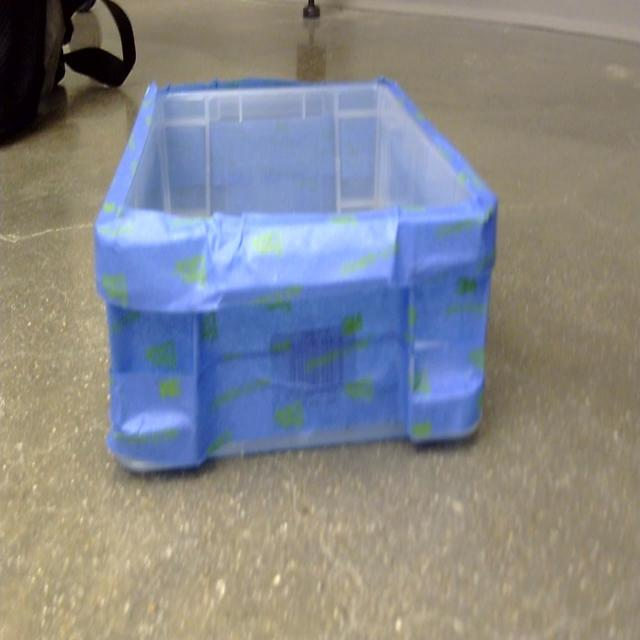bucket: (92, 76, 500, 478)
